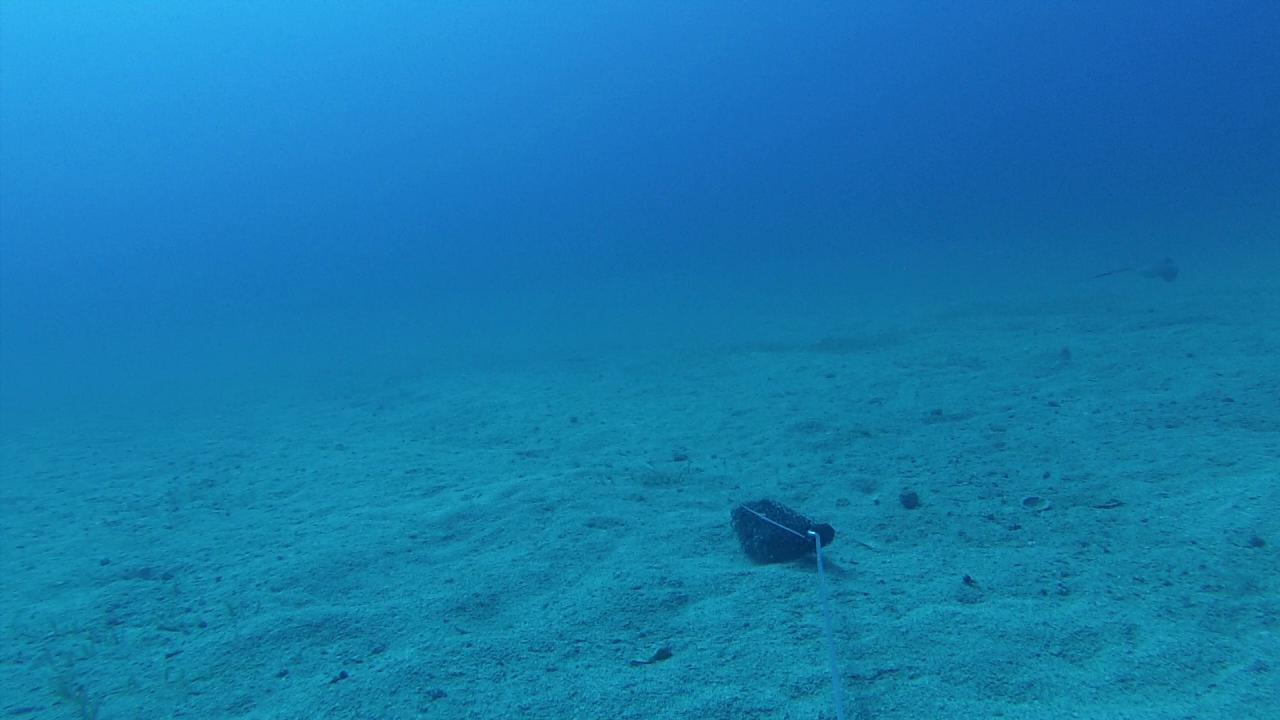dasyatis: (1095, 256, 1179, 284)
